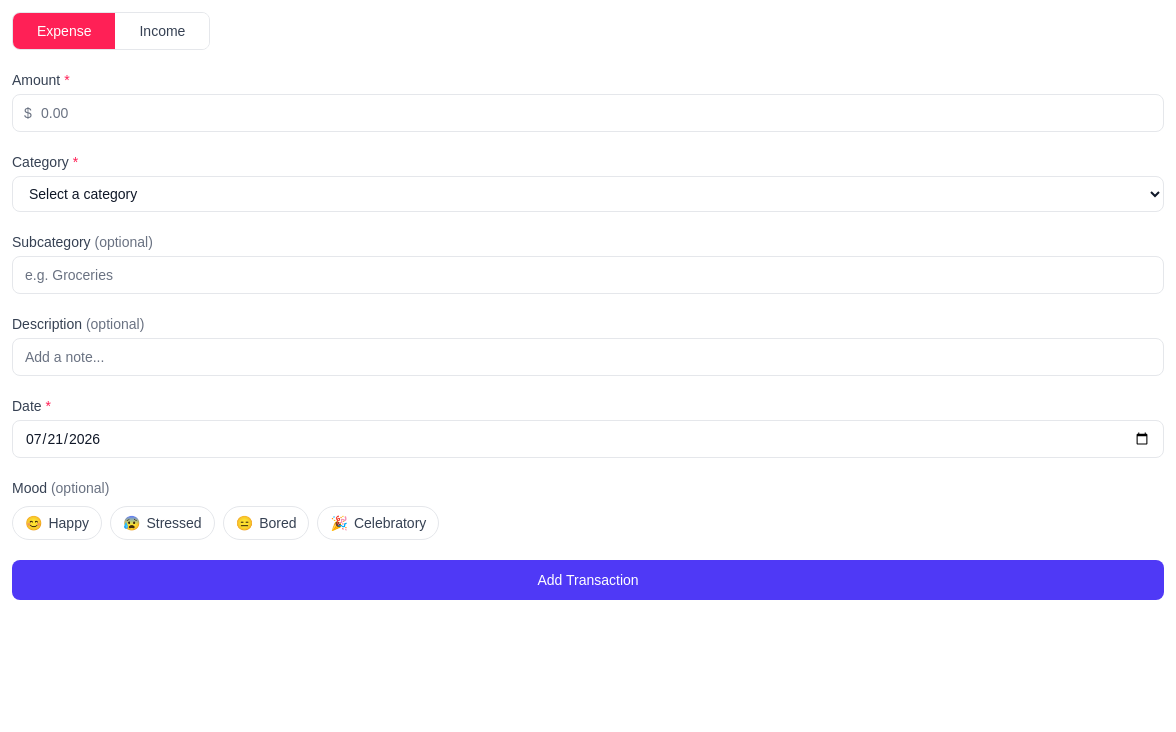
Test: TransactionForm › shows an error when submitting with no category selected
Type "50" into the number field with placeholder "0.00" at (588,113), box [12,94,1164,132]
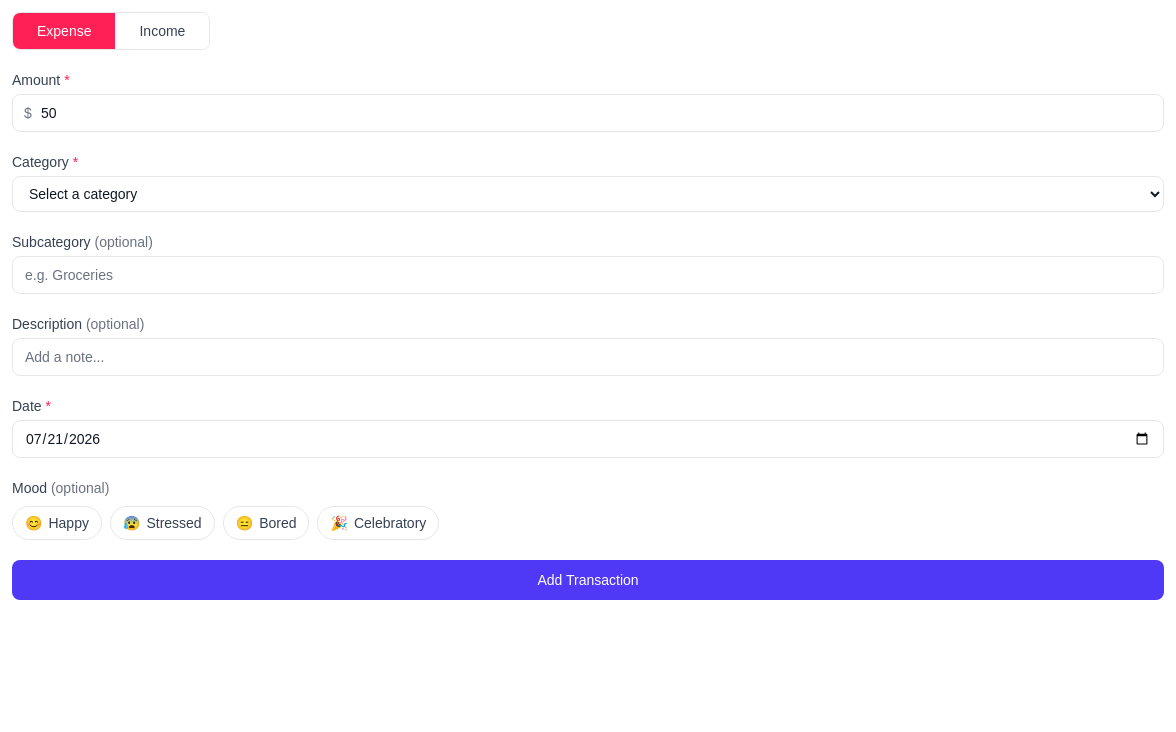
Submit the form
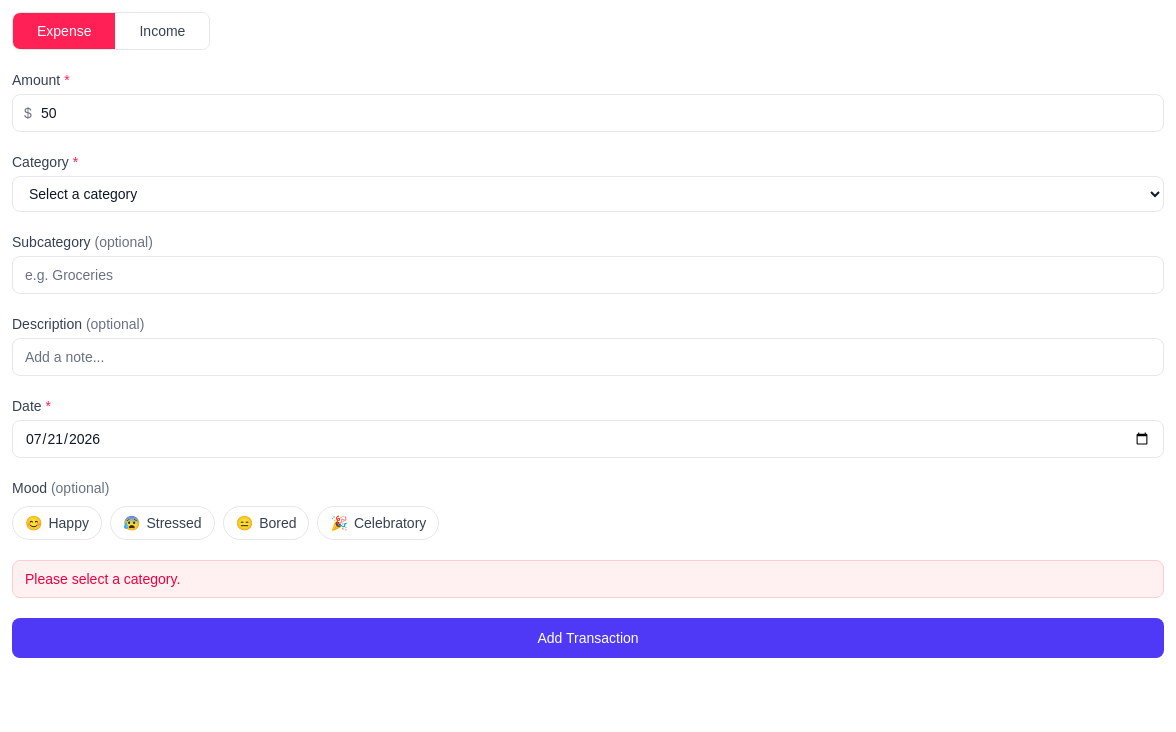
Expected: the text "Please select a category." is shown, [12,560,1164,598]
